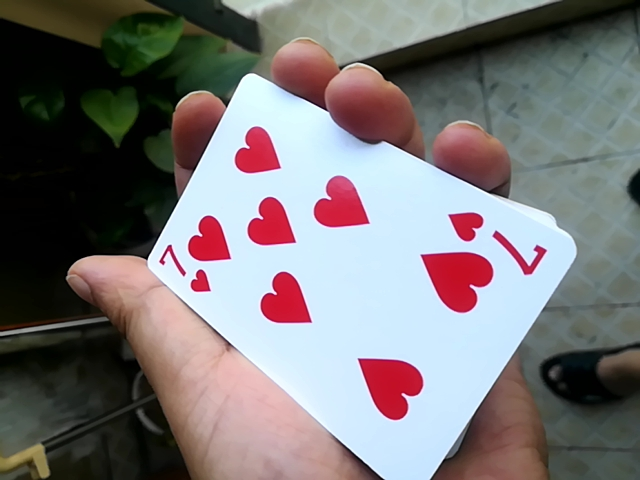hx 7: (125, 55, 576, 479)
